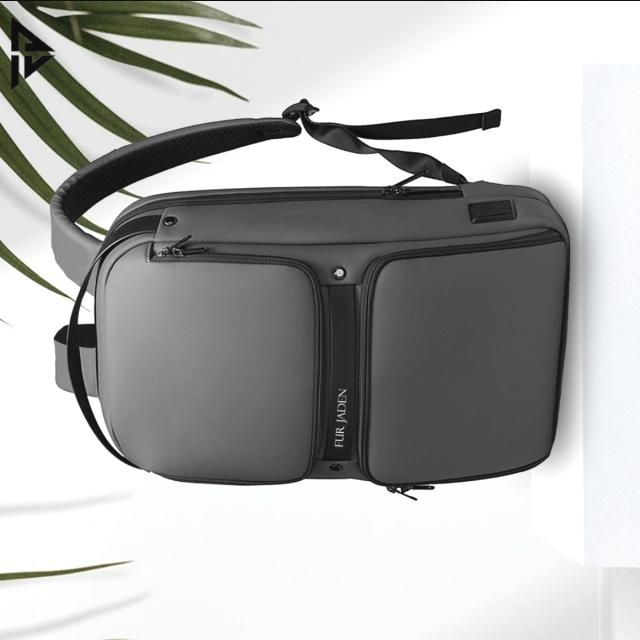backpack: (50, 100, 571, 500)
